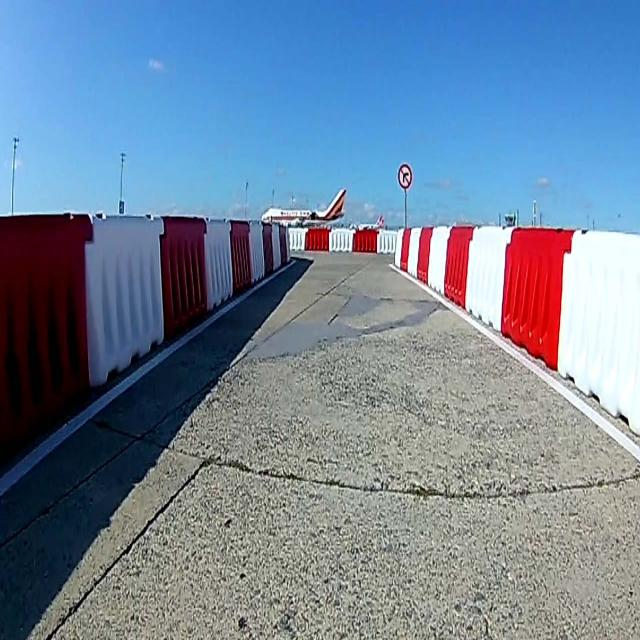sagadonulmez: (397, 162, 412, 190)
